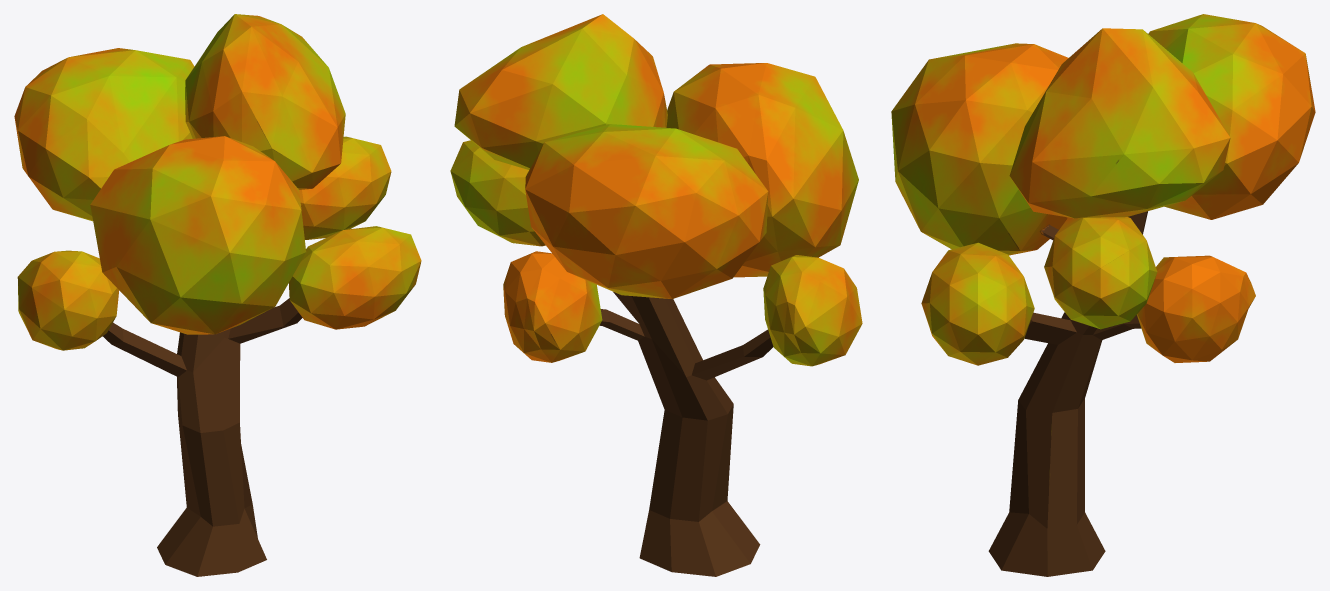
File: FallTree_1.fbx
3 renders of one model, left to right at view 1: azimuth 30°, elevation 25°; view 2: azimuth 150°, elevation 25°; view 3: azimuth 270°, elevation 25°, orthographic. The views are drawn at different scales.
Visible parts, largest first — view 1: FallTree_1; view 2: FallTree_1; view 3: FallTree_1.
Boxes of the visible parts, box(x1,y1,x2,y2) form: FallTree_1: box(14, 14, 421, 576); FallTree_1: box(450, 14, 862, 576); FallTree_1: box(891, 14, 1315, 576).
Size of the model in its own units: 321 by 419 by 289.
Materials: 1 (1 with a texture image).
